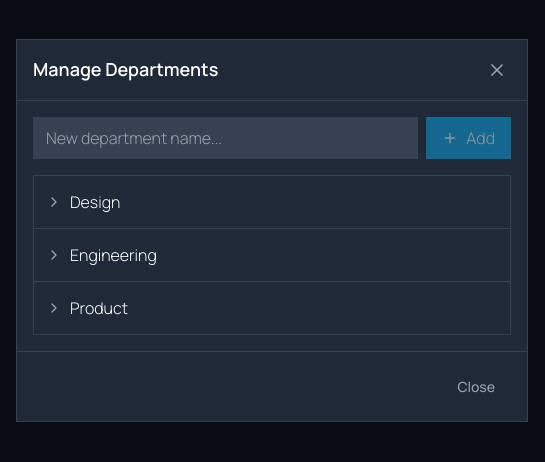
Scenario: ManageDepartmentsModal › user list functionality › shows empty state when department has no users
What coordinates should you click on to do the following:
click the text "Engineering"
I would click on:
 (113, 254)
Its box is [70, 242, 157, 266].
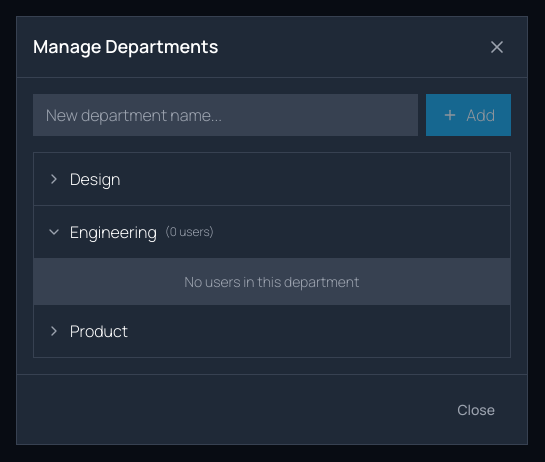
Expected: the text "No users in this department" is shown, [185, 272, 359, 290]
